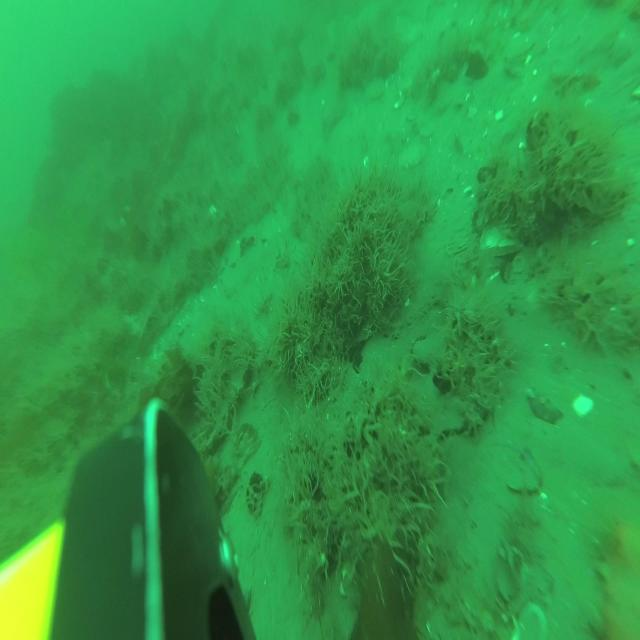scallop: (513, 598, 545, 640), (503, 32, 535, 58), (399, 143, 428, 164), (366, 76, 386, 99)
